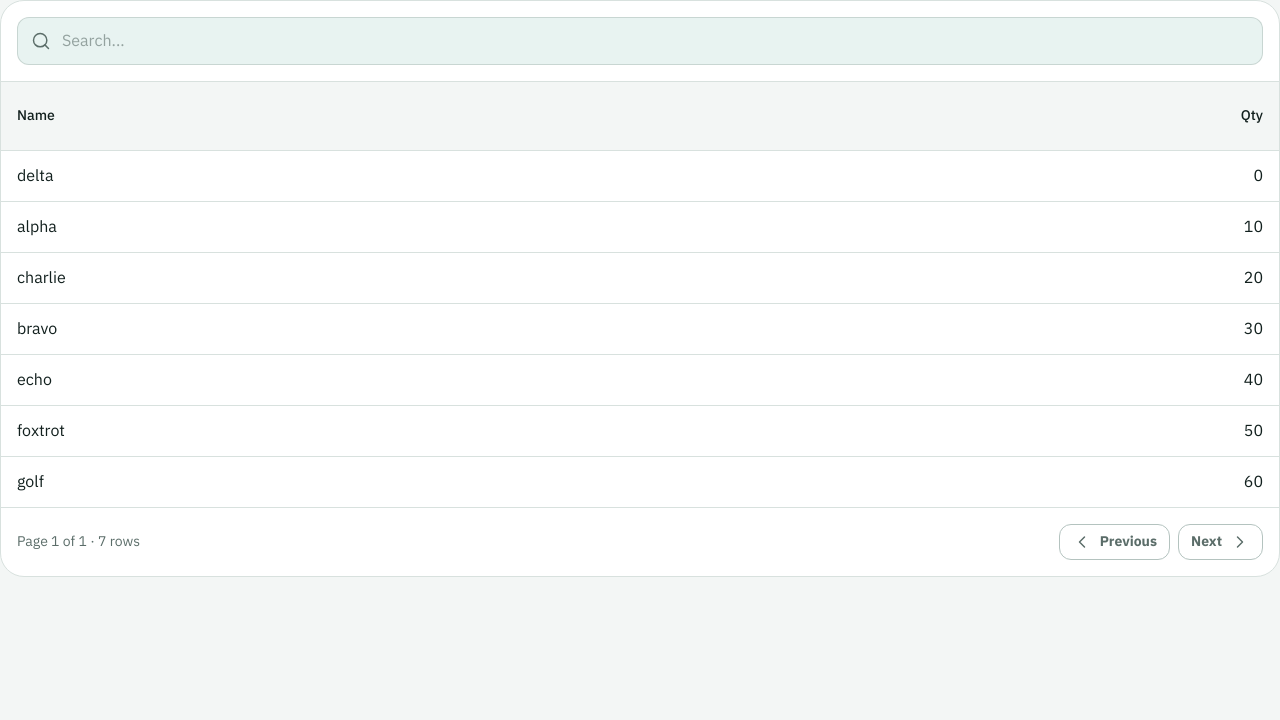
Test case: DataTable (client mode) › searches, then shows the no-results state
Type "ra" into the search field named "Search the table" at (640, 41), box [17,17,1263,65]
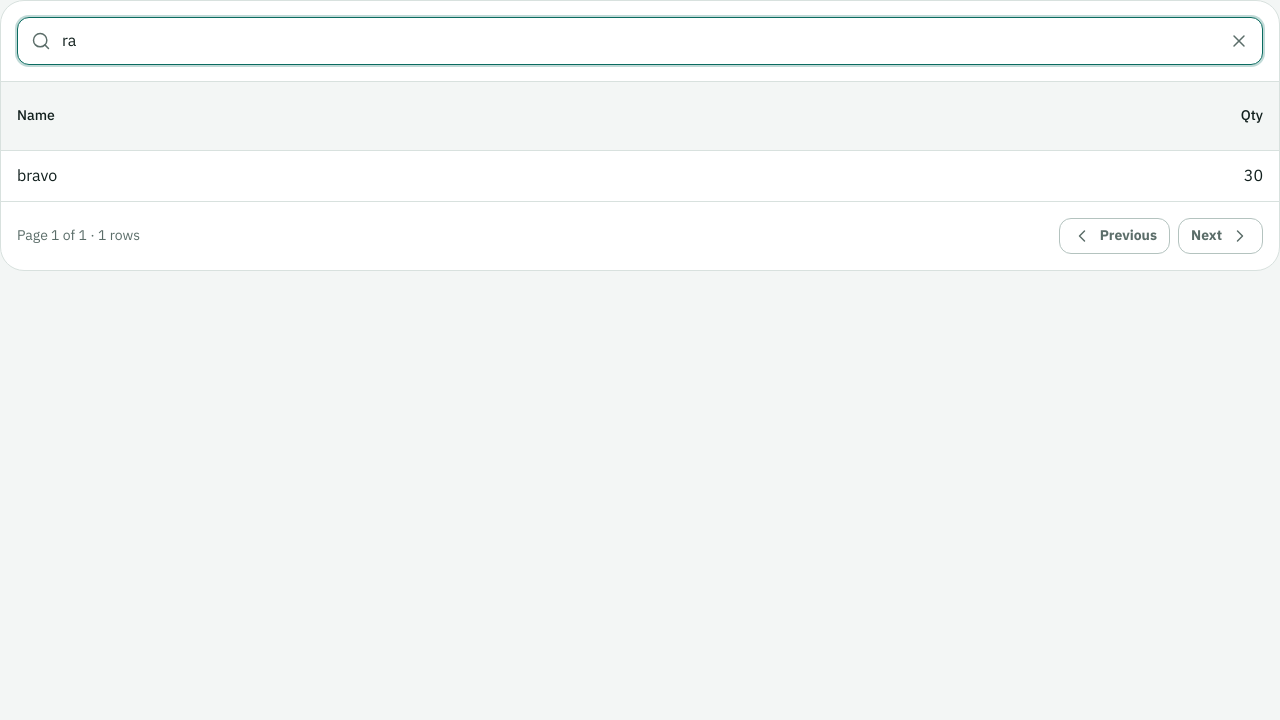
Type "zzz" into the search field at (640, 41), box [17,17,1263,65]
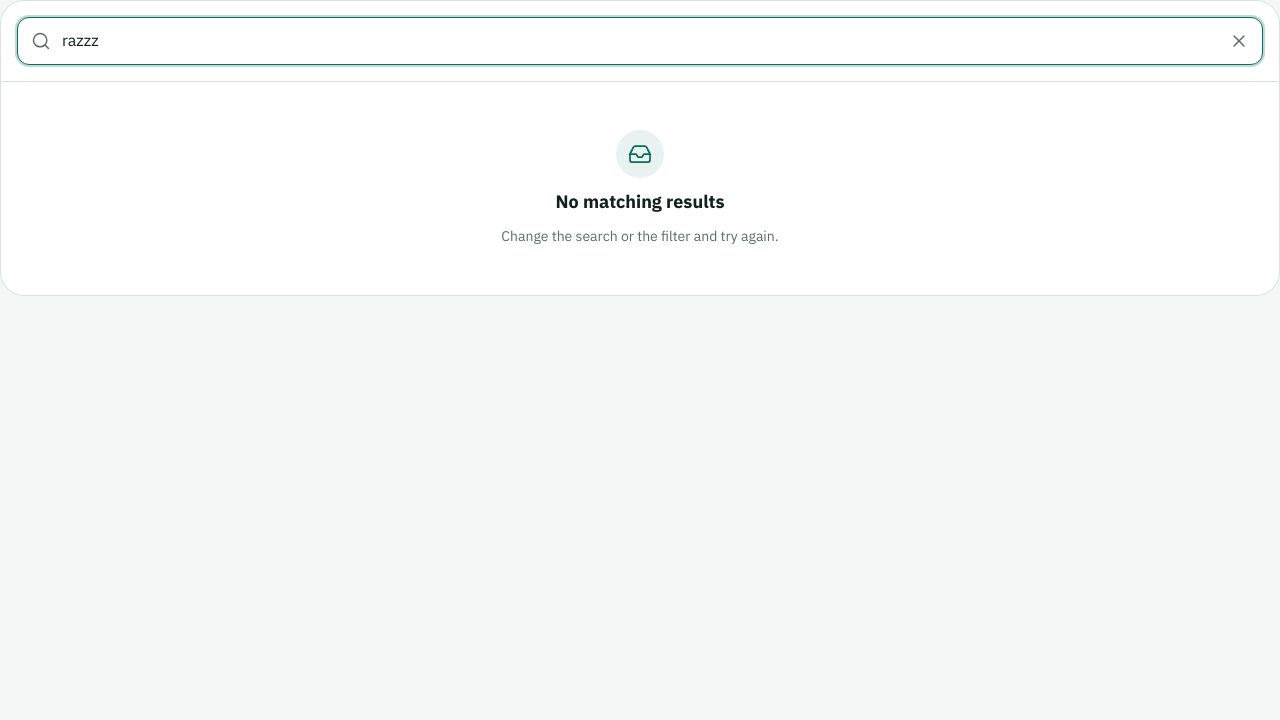
Expected: the heading "No matching results" is shown, [556,190,724,215]
